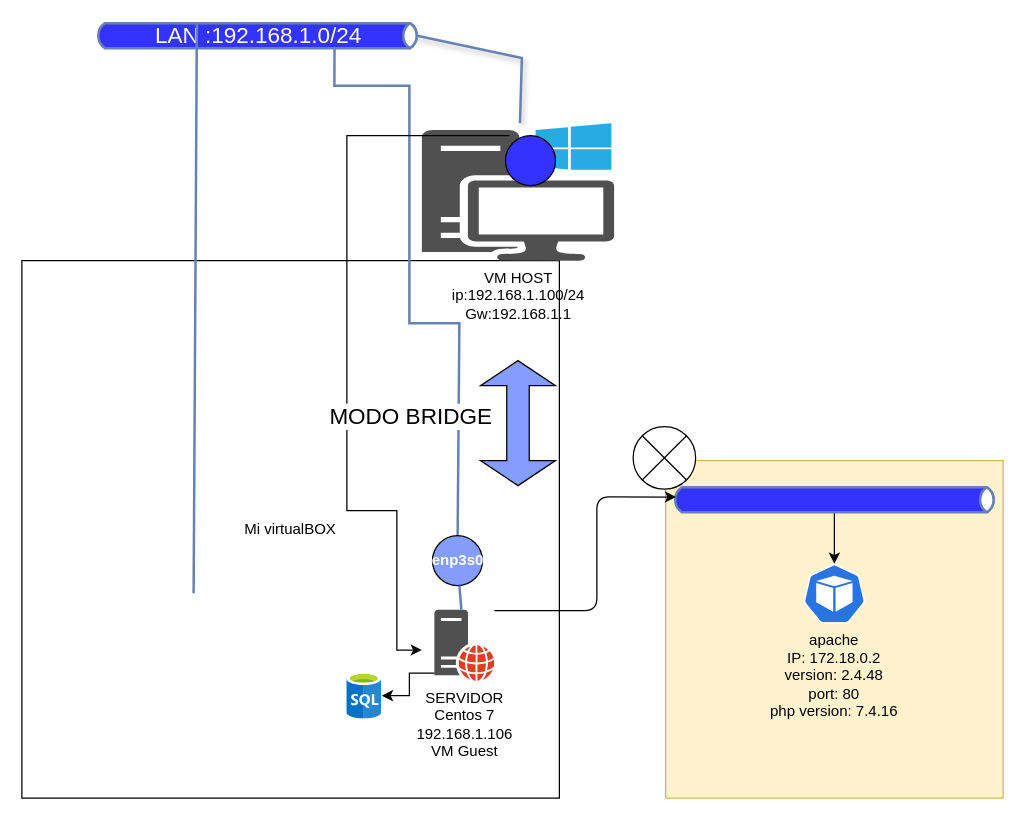
Image size: 1025x820. Some labels were removed from this diagram. Here are the shapes that lost their labels. From the top down, the centre of each, then its label:
(x=834, y=499): RED INTERNA DOCKER 172.18.0.0/24
(x=363, y=695): mysql localhost:3306 version: 5.7.35
